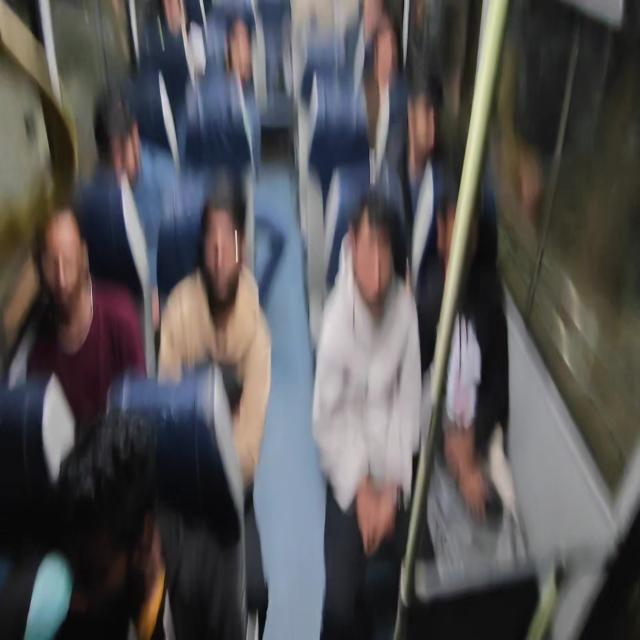person: (58, 407, 199, 626), (36, 207, 91, 326), (89, 96, 149, 188), (435, 165, 483, 279), (352, 186, 394, 314), (199, 200, 248, 308), (409, 92, 444, 156), (223, 17, 253, 79), (157, 0, 187, 40), (380, 33, 401, 88), (361, 0, 387, 44)
